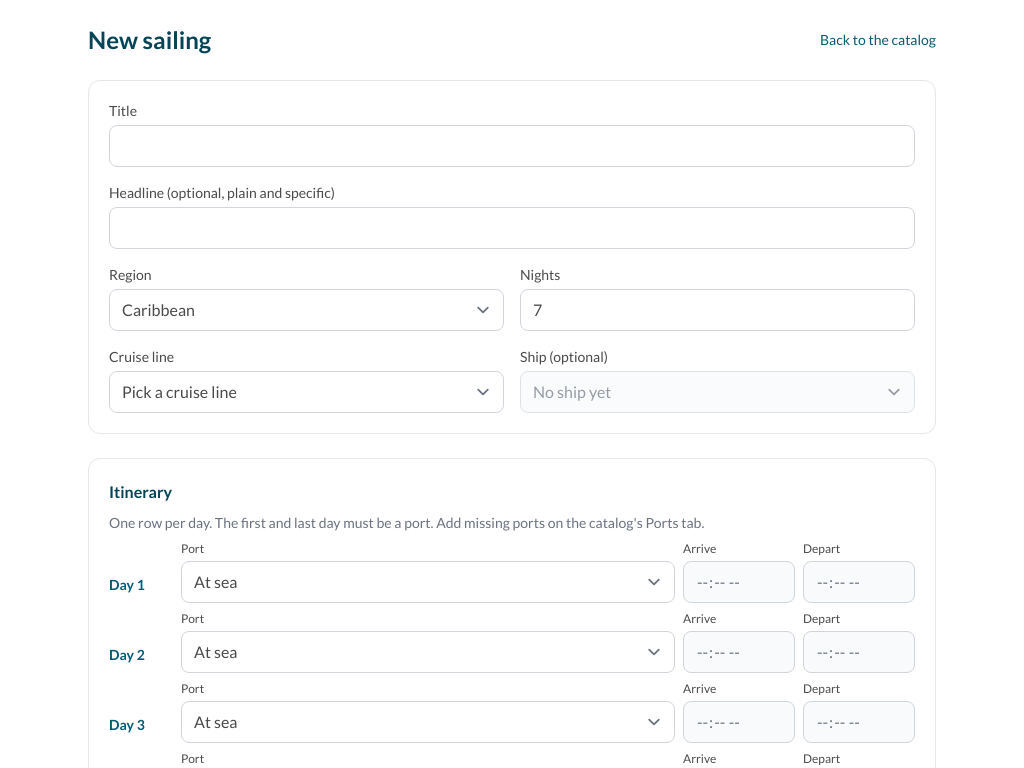
Test: the sailing editor keeps what staff typed › keeps typed ports when Nights is changed through a smaller number
The image size is (1024, 768).
Replace the text in the number field labelled "Nights" with "3": (718, 310) [520,289,915,331]
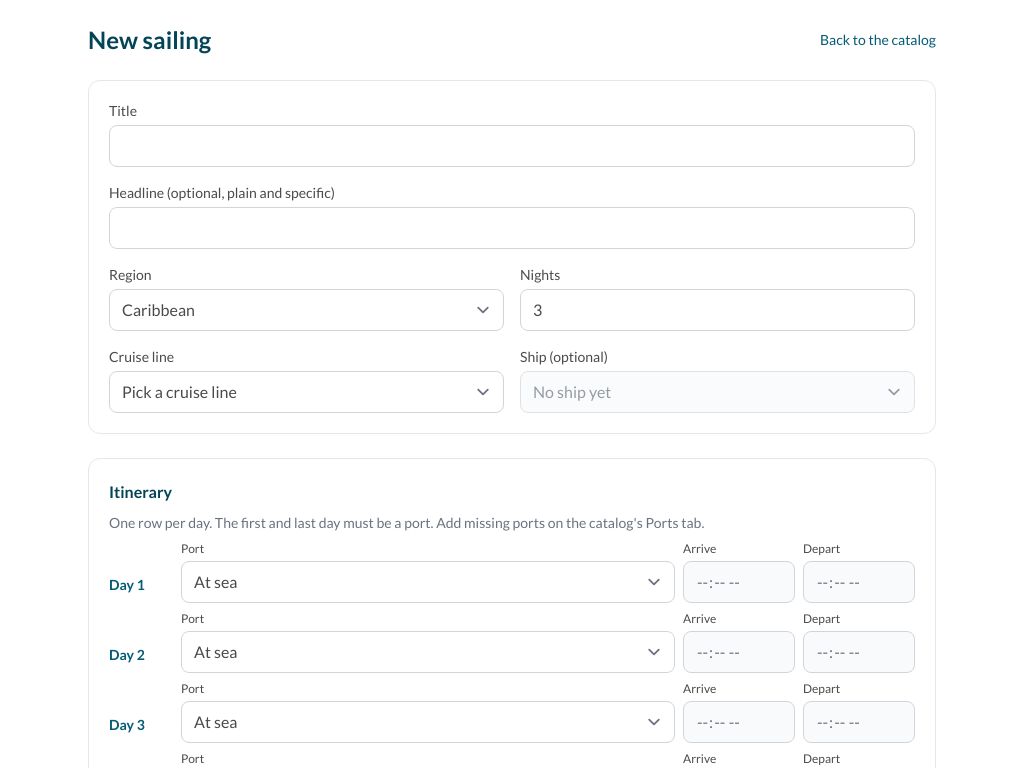
Select "Miami, United States" in the 1st dropdown labelled "Port": (428, 582) [181,561,675,603]
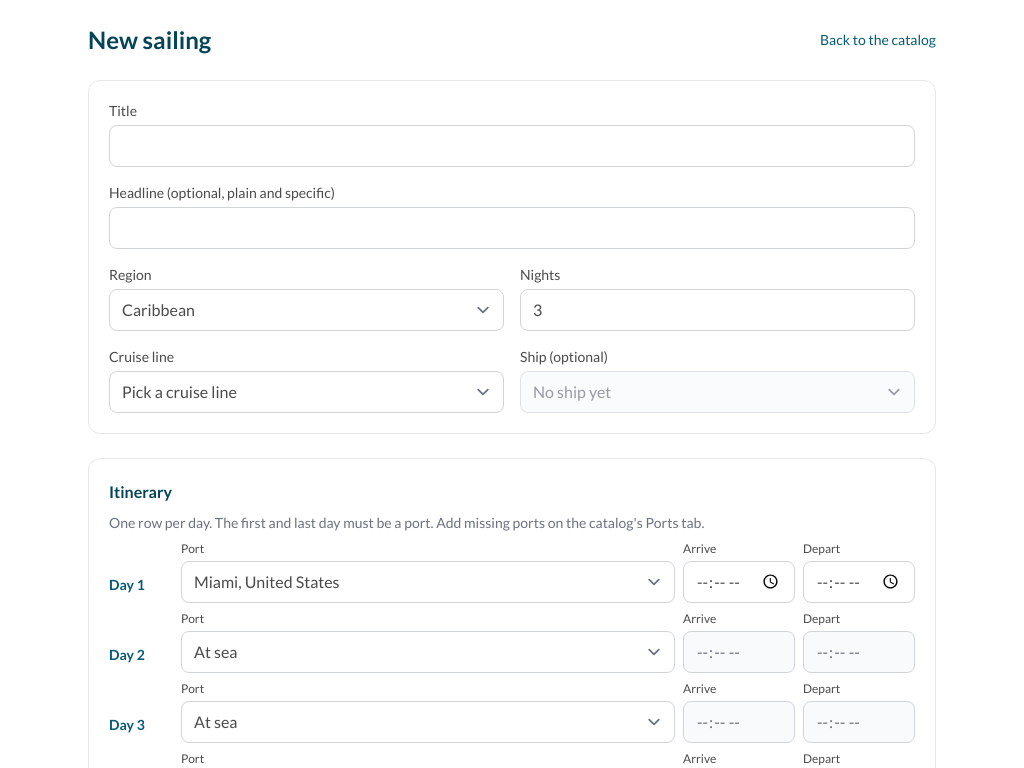
Select "Nassau, Bahamas" in the 3rd dropdown labelled "Port": (428, 722) [181,701,675,743]
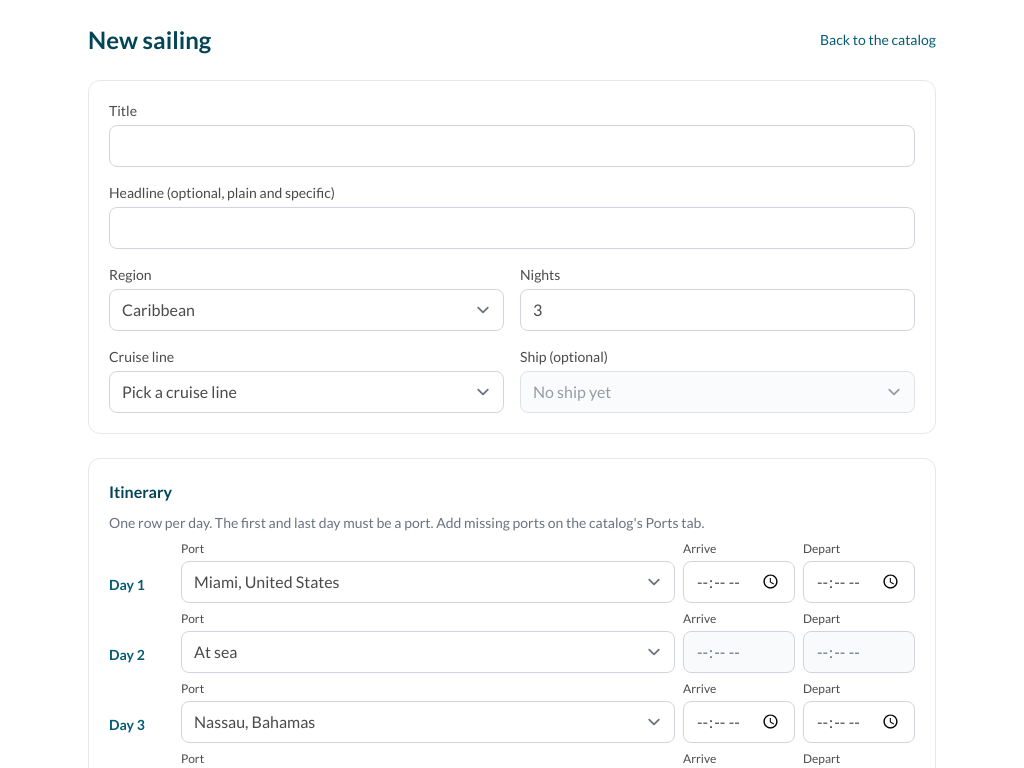
Replace the text in the number field labelled "Nights" with "1": (718, 310) [520,289,915,331]
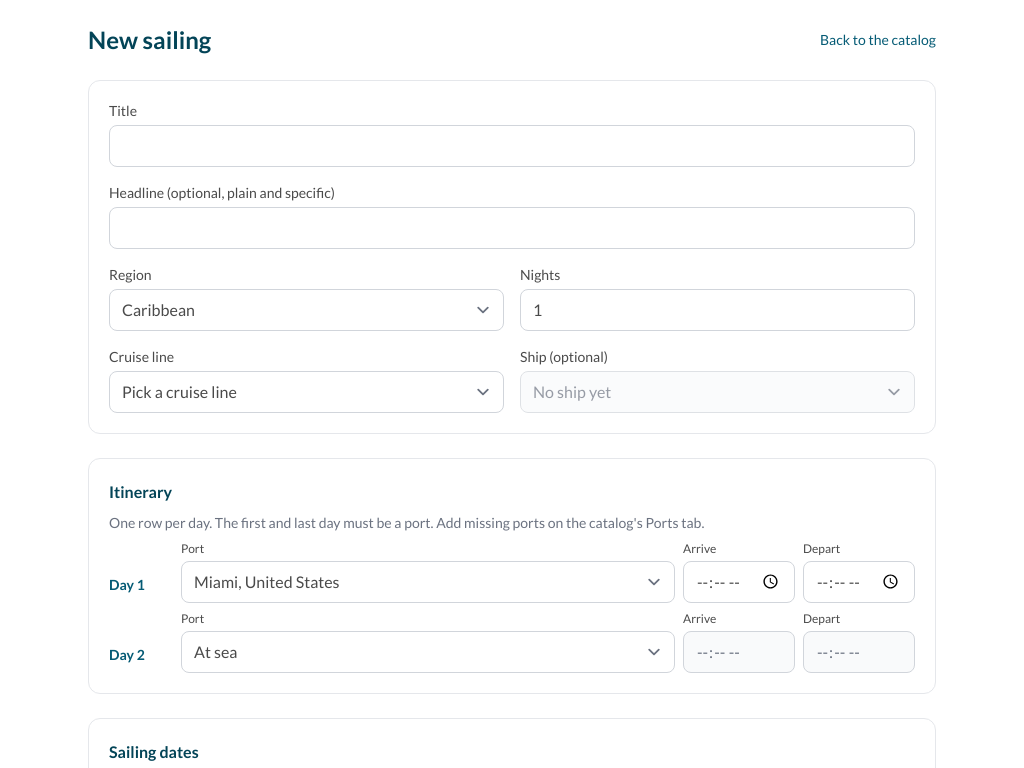
Replace the text in the number field labelled "Nights" with "10": (718, 310) [520,289,915,331]
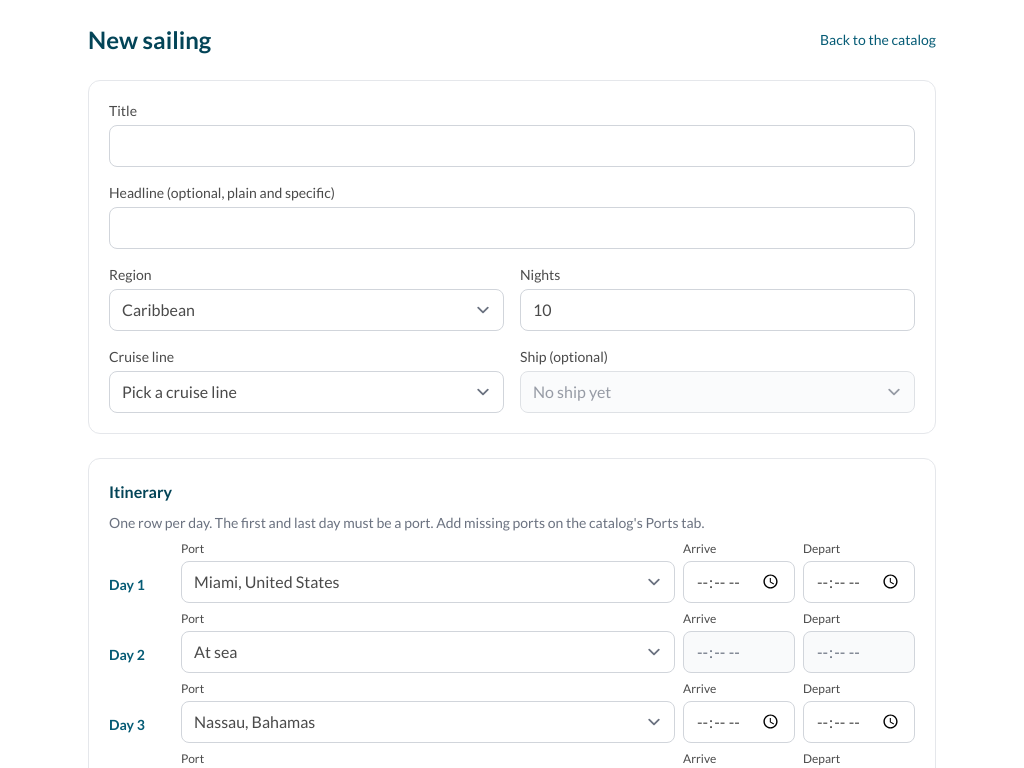
Result: the number of elements with test id "day-row" is 11
Result: the 3rd dropdown labelled "Port" shows "Nassau, Bahamas" at [181,701,675,743]
